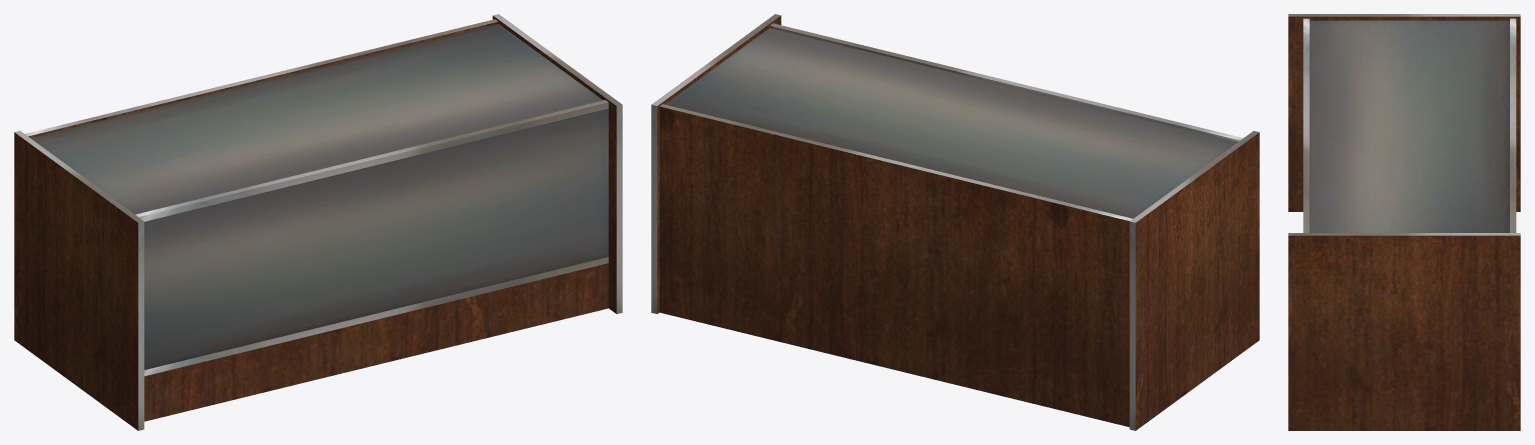
The model's file is displaycase_pawnshop.fbx.
3 views of the same model, side by side, from view 1: azimuth 30°, elevation 25°; view 2: azimuth 150°, elevation 25°; view 3: azimuth 270°, elevation 25° (orthographic). The views are drawn at different scales.
Parts seen in each view (by area): view 1: mesh_0, mesh_2; view 2: mesh_2, mesh_0; view 3: mesh_2, mesh_0.
Part boxes in pixels (box(x1,y1,x2,y2)): mesh_0: box(30, 23, 608, 369); mesh_2: box(14, 14, 622, 430); mesh_2: box(651, 14, 1259, 430); mesh_0: box(665, 28, 1237, 218); mesh_2: box(1288, 14, 1520, 430); mesh_0: box(1309, 20, 1509, 232).
Bounding box in the file's own units: 246 × 101 × 109.
Materials: 2 (2 with a texture image).
